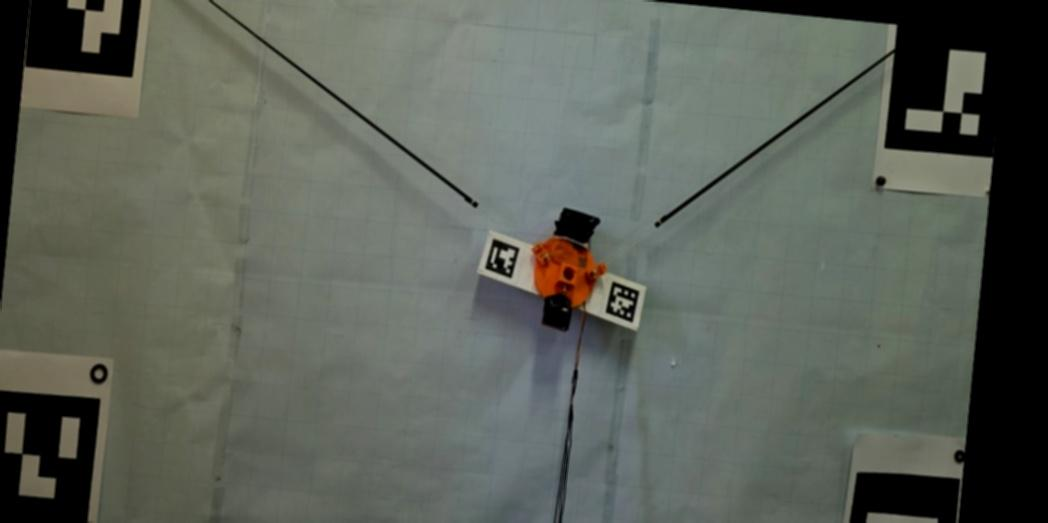robot: (532, 208, 609, 332)
